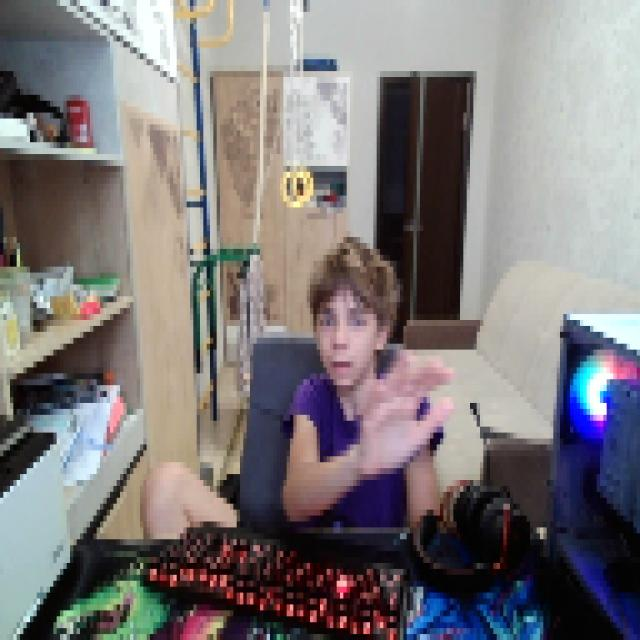hand: (357, 338, 451, 474)
